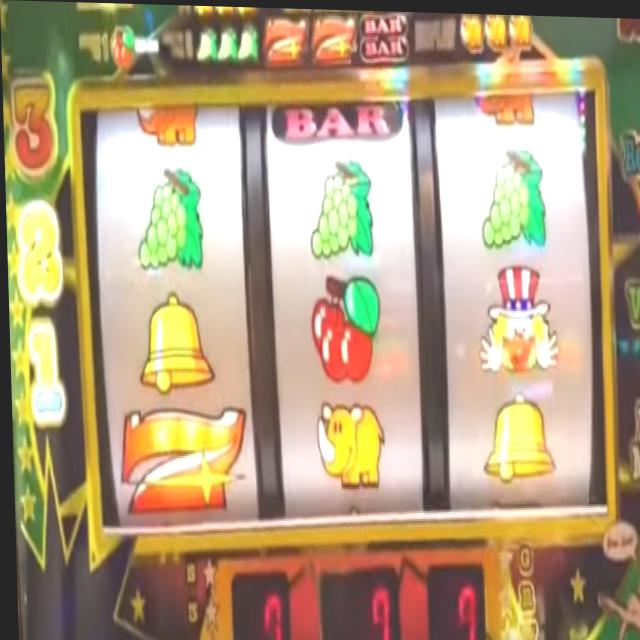bar: (269, 101, 404, 144), (359, 13, 408, 60)
bell: (135, 291, 213, 395), (478, 388, 555, 486)
cherry: (309, 272, 380, 383), (108, 21, 136, 68)
clown: (477, 260, 558, 380)
display: (77, 67, 616, 541)
elephant: (313, 396, 384, 486), (134, 108, 198, 144), (474, 89, 537, 125), (458, 12, 484, 51), (485, 11, 508, 50), (508, 12, 532, 44)
grape: (134, 163, 204, 272), (478, 140, 548, 248), (304, 151, 375, 255), (193, 25, 218, 62), (236, 24, 257, 61), (217, 27, 238, 62)
z: (117, 404, 246, 511), (310, 9, 355, 66), (265, 15, 307, 64)
